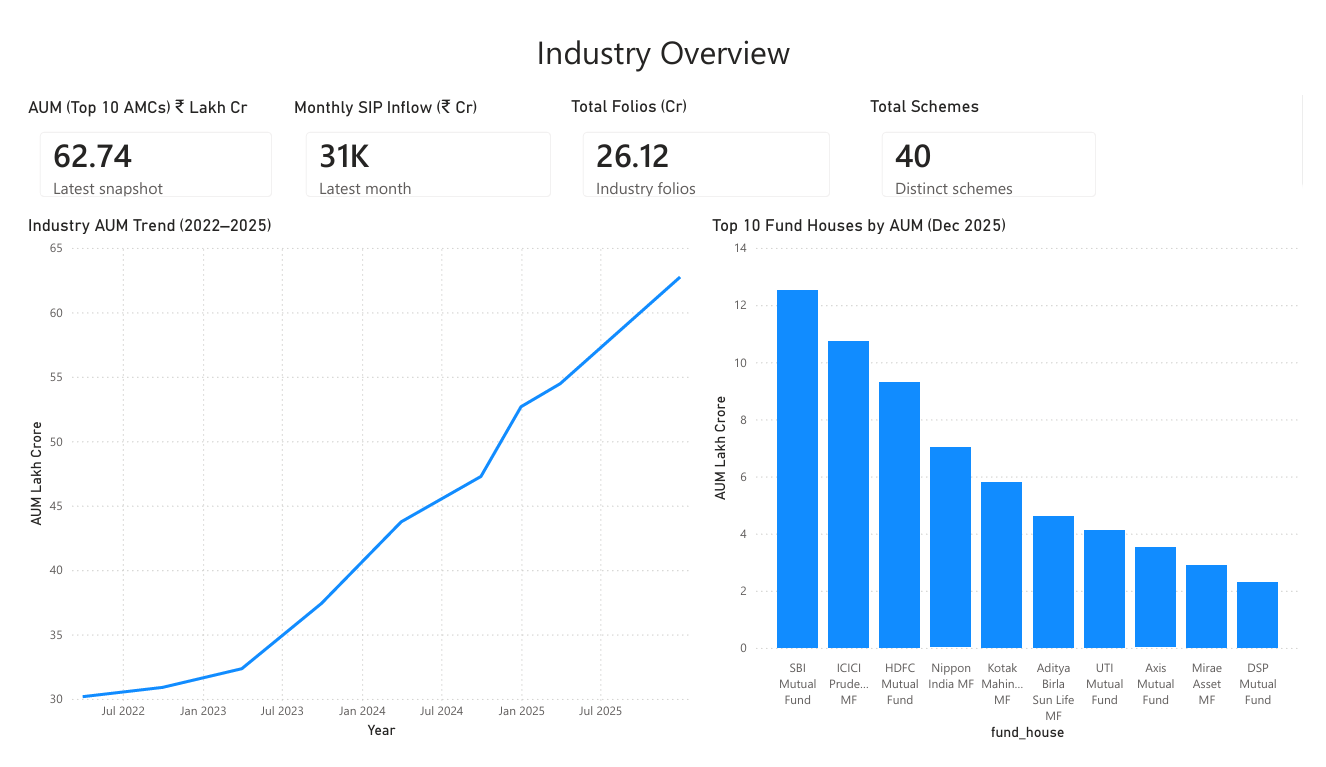

Layout of this report page (visuals, bound fields, positions):
{"tool":"powerbi","page":{"name":"Industry Overview","canvas":[1280,720],"ordinal":0},"visuals":[{"type":"cardVisual","title":"AUM (Top 10 AMCs) ₹ Lakh Cr","fields":{"Data":["Sum(03_aum_by_fund_house.aum_lakh_crore)"]},"box":[0,71.6,265.7,119.4],"z":0},{"type":"cardVisual","title":"Monthly SIP Inflow (₹ Cr)","fields":{"Data":["Max(04_monthly_sip_inflows.sip_inflow_crore)"]},"box":[265.7,71.6,279.1,119.4],"z":1000},{"type":"cardVisual","title":"Total Folios (Cr)","fields":{"Data":["Max(06_industry_folio_count.total_folios_crore)"]},"box":[543.3,71.6,280.6,119.4],"z":2000},{"type":"cardVisual","title":"Total Schemes","fields":{"Data":["Count(01_fund_master.scheme_name)"]},"box":[841.8,71.6,247.8,119.4],"z":3000},{"type":"lineChart","title":"Industry AUM Trend (2022–2025)","fields":{"Y":["Sum(03_aum_by_fund_house.aum_lakh_crore)"],"Category":["03_aum_by_fund_house.date.Variation.Date Hierarchy.Year","03_aum_by_fund_house.date.Variation.Date Hierarchy.Month","03_aum_by_fund_house.date.Variation.Date Hierarchy.Day"]},"box":[0,191,683.6,528.4],"z":4000},{"type":"clusteredColumnChart","title":"Top 10 Fund Houses by AUM (Dec 2025)","fields":{"Category":["03_aum_by_fund_house.fund_house"],"Y":["Sum(03_aum_by_fund_house.aum_lakh_crore)"]},"box":[683.6,191,597,529.9],"z":5000},{"type":"textbox","box":[0,0,1280.6,71.6],"z":6000}]}

Visuals, with their boxes in screenshot pixels (x1, y1, x2, y2), scaled from the page's 1280x720 canvas onto the 1326x767 screenshot:
"AUM (Top 10 AMCs) ₹ Lakh Cr" cardVisual: region(0, 76, 275, 203)
"Monthly SIP Inflow (₹ Cr)" cardVisual: region(275, 76, 564, 203)
"Total Folios (Cr)" cardVisual: region(563, 76, 854, 203)
"Total Schemes" cardVisual: region(872, 76, 1129, 203)
"Industry AUM Trend (2022–2025)" lineChart: region(0, 203, 708, 766)
"Top 10 Fund Houses by AUM (Dec 2025)" clusteredColumnChart: region(708, 203, 1325, 766)
textbox: region(0, 0, 1325, 76)
